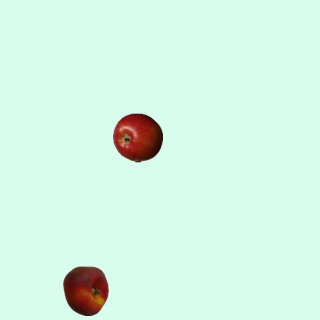Apple Braeburn: (112, 112, 162, 162)
Nectarine Flat: (60, 265, 110, 315)
